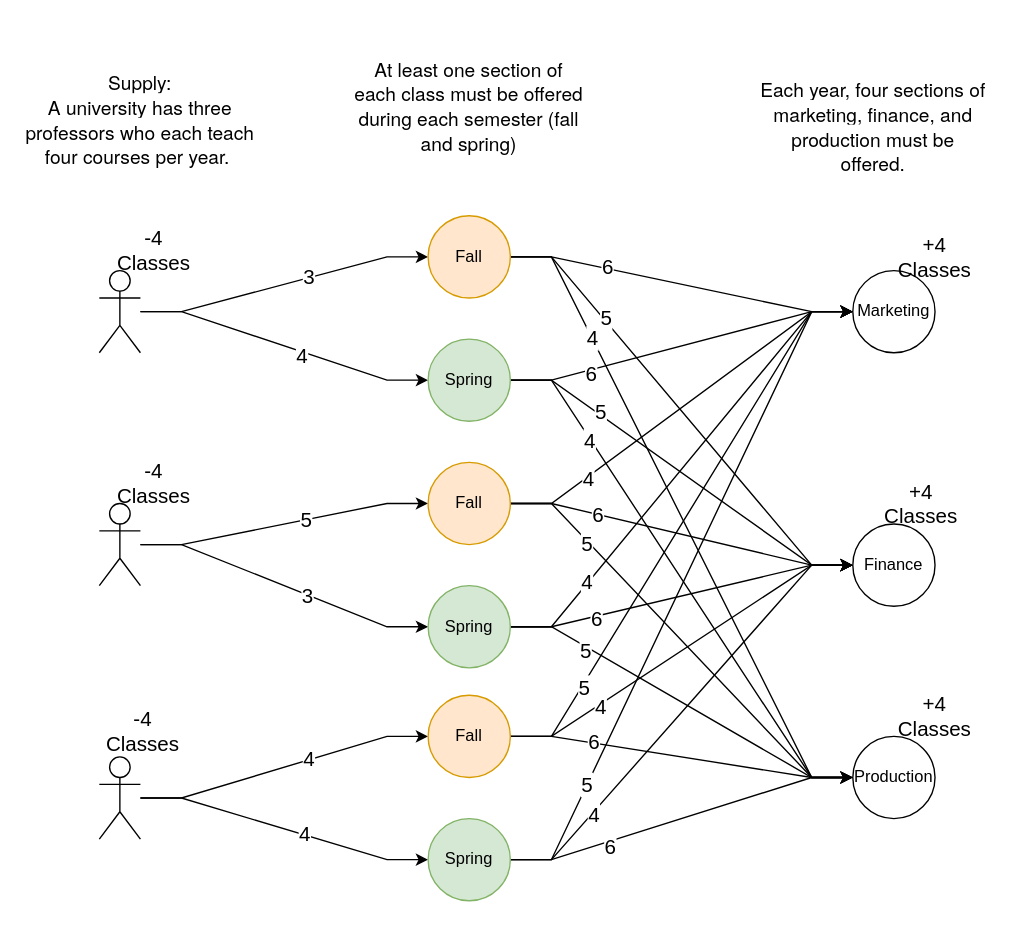
This 1012x925 diagram has some shape labels left out. The box of each missing label's shape, as (x1, y1, x2, y2) in pixels:
Professor 1: (98, 269, 140, 353)
Professor 2: (98, 502, 140, 586)
Professor 3: (98, 756, 140, 839)
